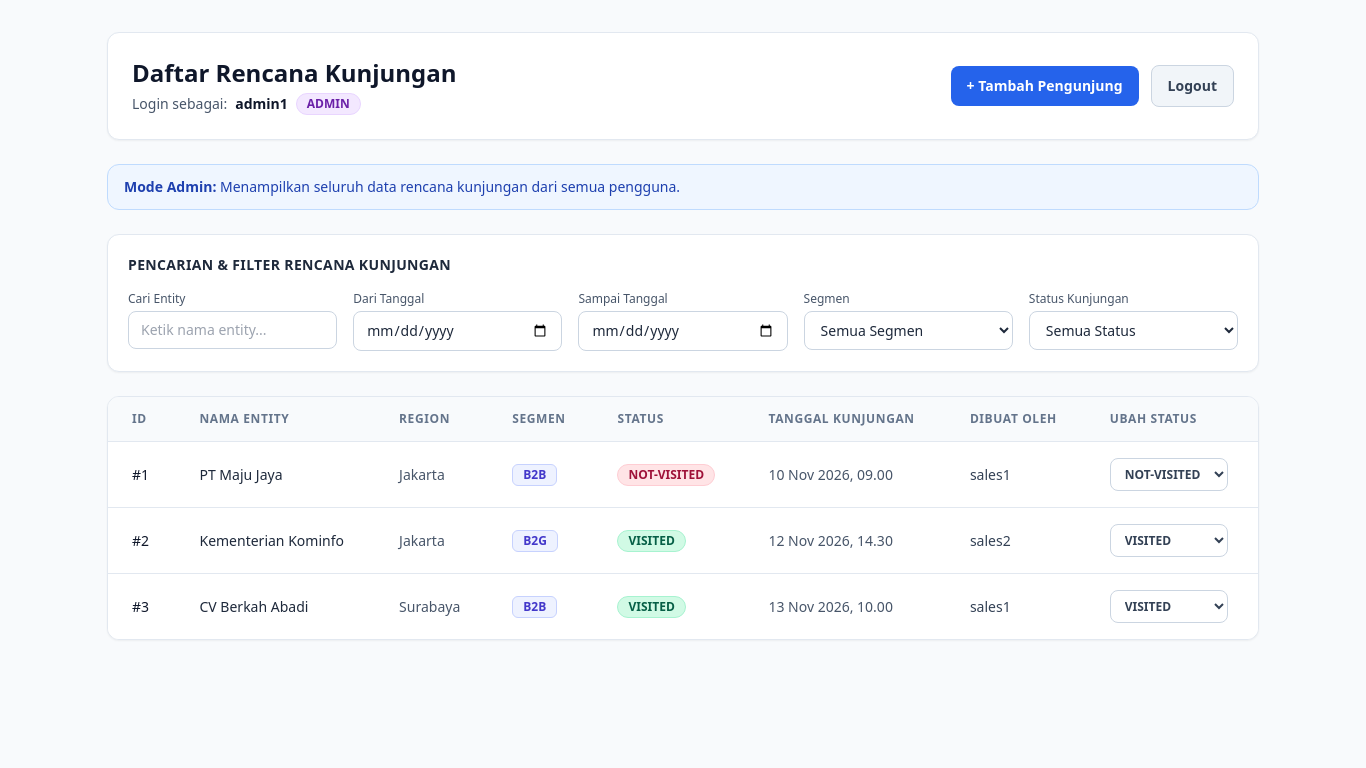
Test: PengunjungPage (Halaman Daftar Rencana Kunjungan) › 2. Filter Pencarian (Search Input) › memanggil API dengan parameter query ?search= saat user mengetik pada input Cari Entity dan memperbarui tabel
The image size is (1366, 768).
Expected: the text "PT Maju Jaya" is shown, x1=176 y1=442 x2=375 y2=508
Note: Cari input pencarian menggunakan accessible query (getByPlaceholderText / getByLabelText)
Type "Kominfo" into the field with placeholder "Ketik nama entity..." at (233, 330), box x1=128 y1=311 x2=337 y2=349
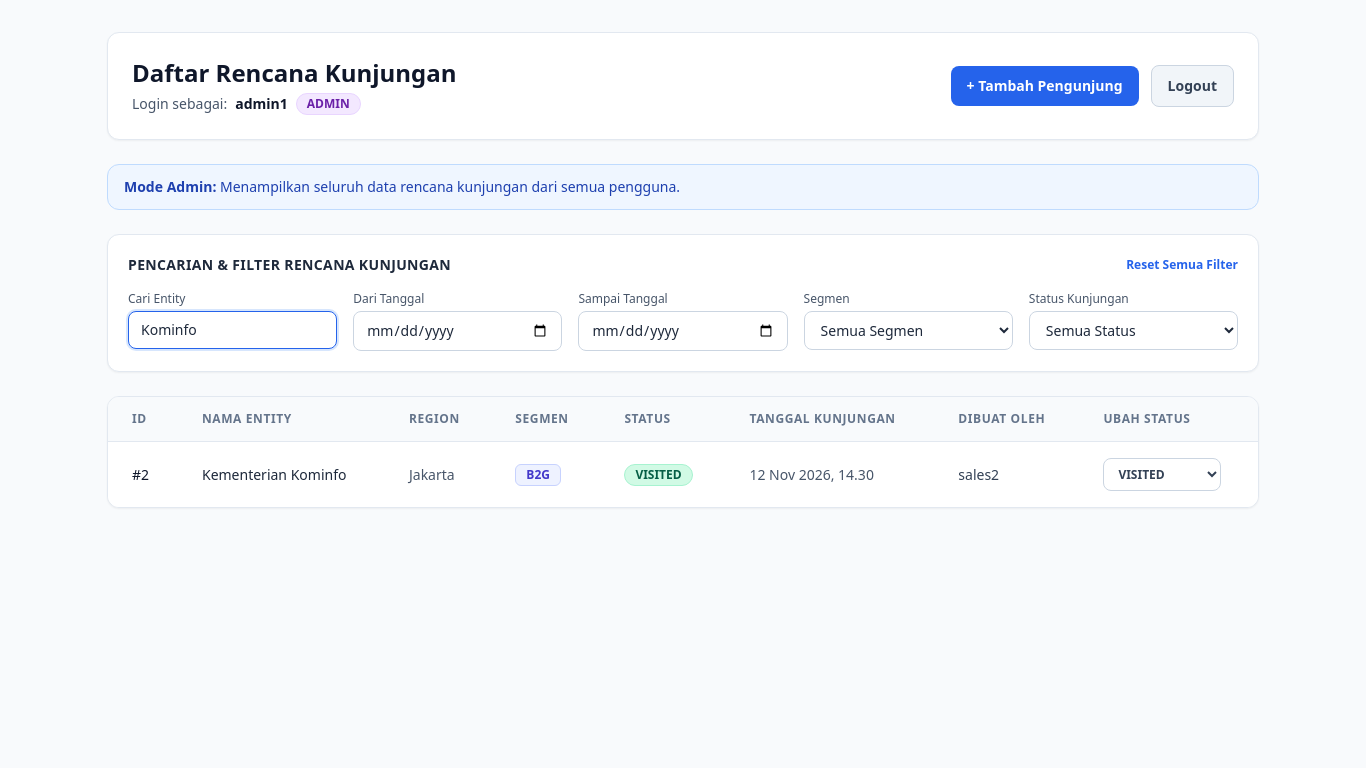
Expected: the text "Kementerian Kominfo" is shown, x1=178 y1=442 x2=385 y2=507
Expected: the text "PT Maju Jaya" is gone
